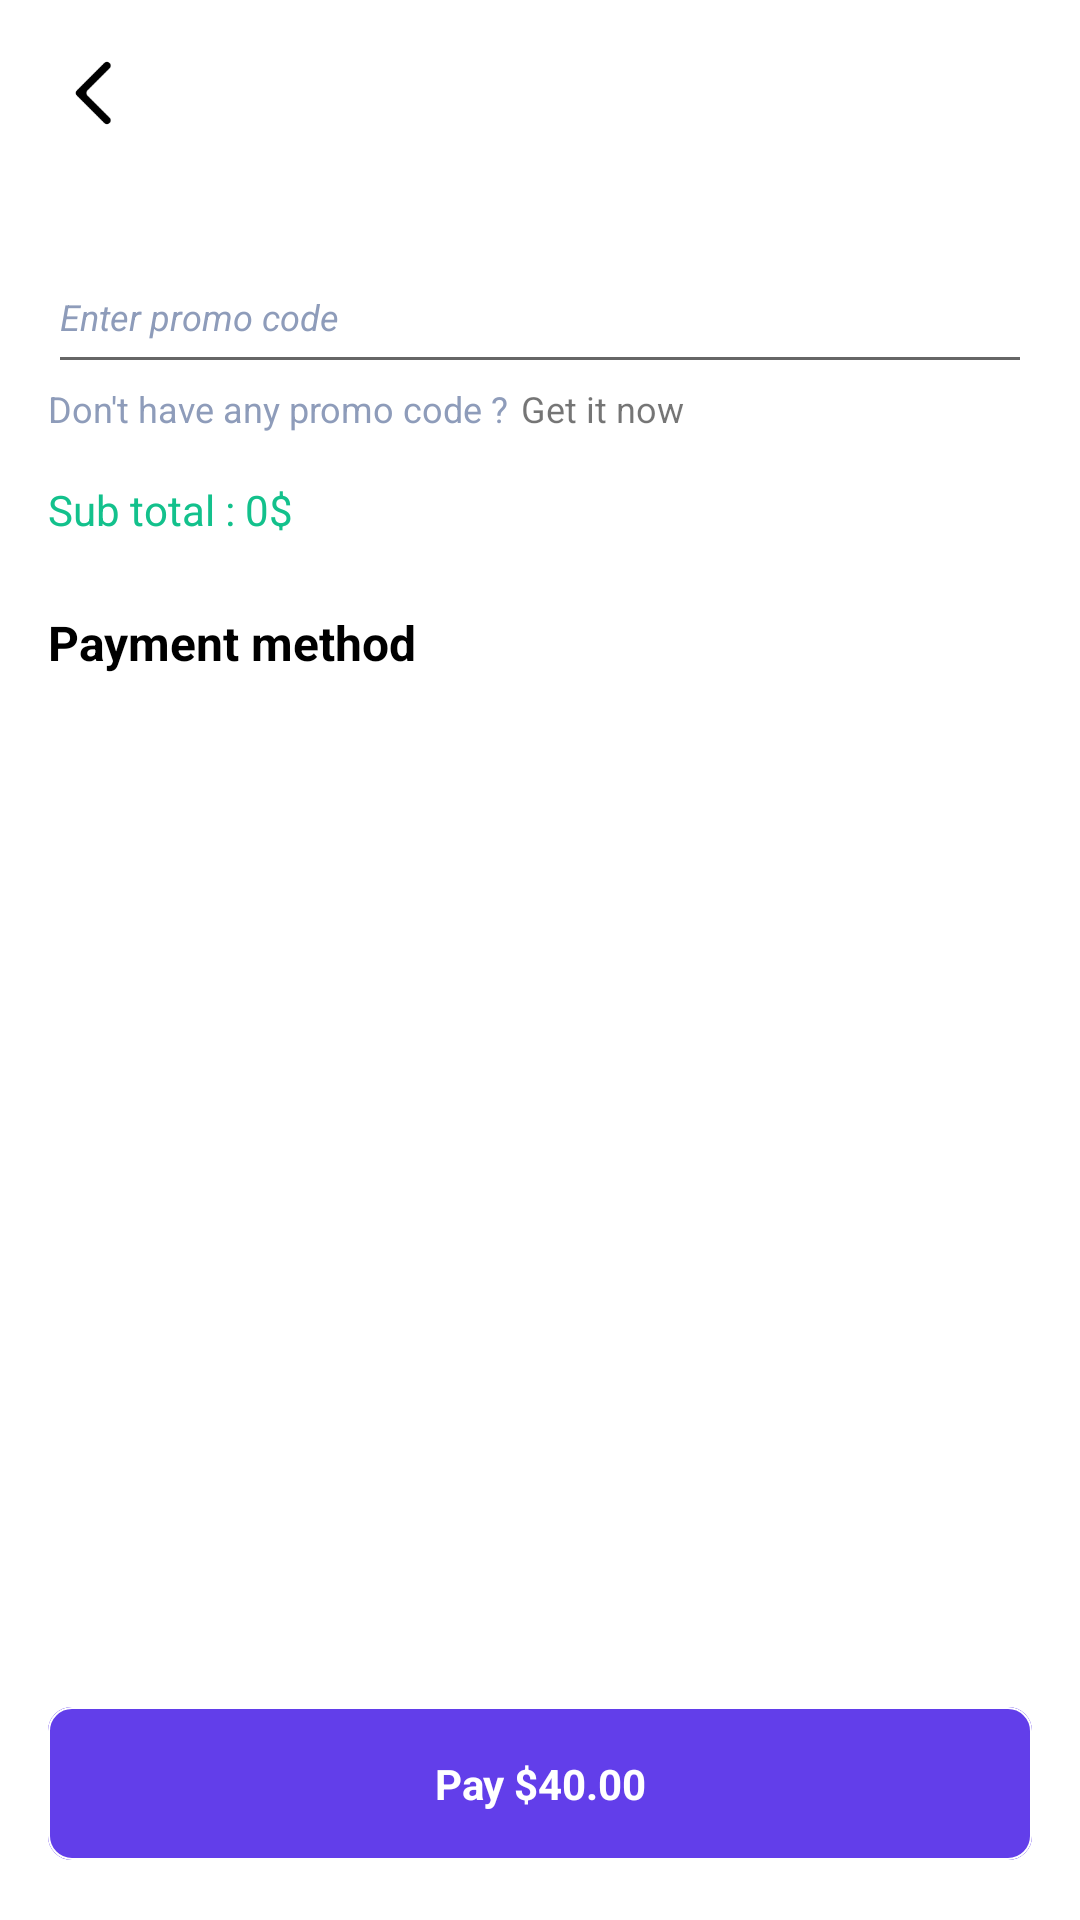

Named icons in this screenshot (1080 x 1920) and their centers, (x,y):
back: (93,93)
